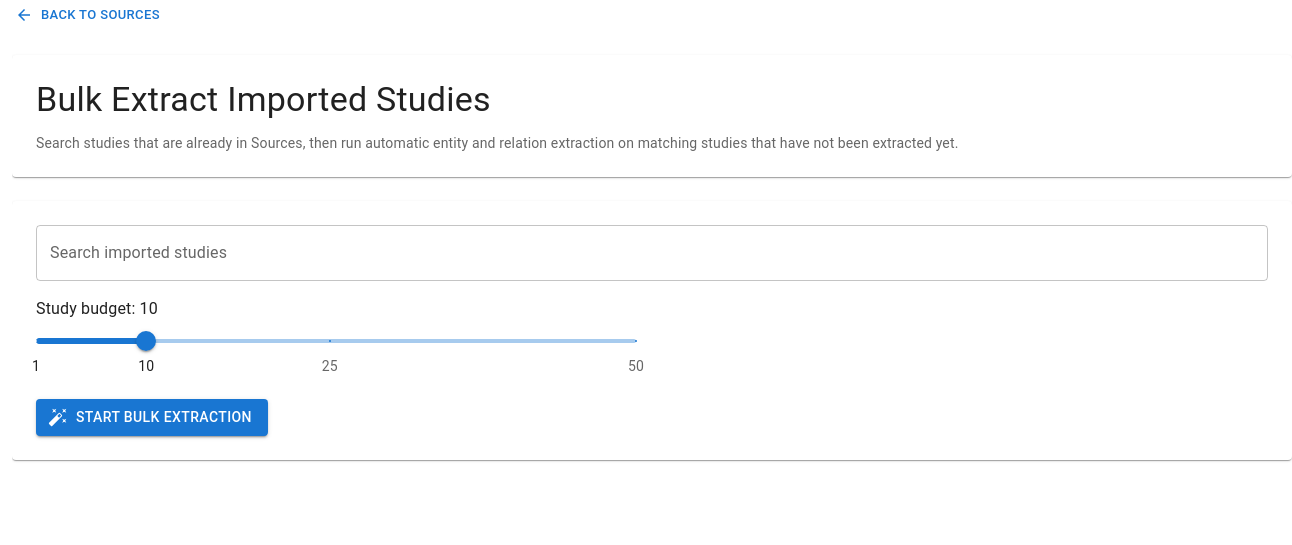
Test case: BulkSourceExtractionView › starts a bulk extraction job for imported studies
Step 1. Type "ketamine" into the field labelled "Search imported studies" → (652, 253), box left=36, top=225, right=1268, bottom=281
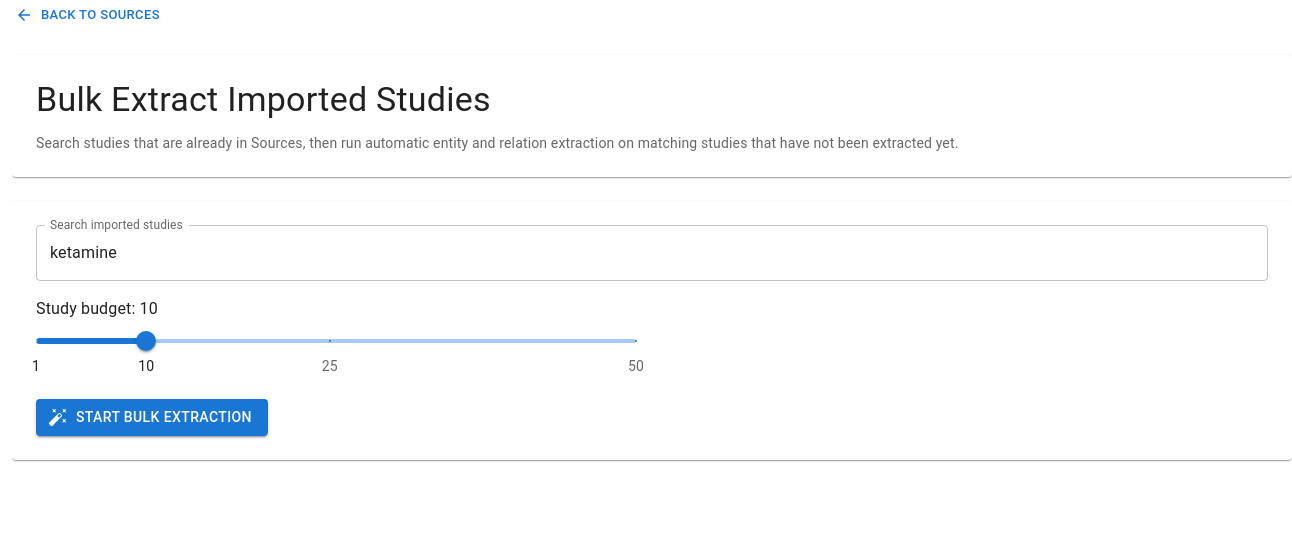
Step 2. Click the button "Start Bulk Extraction" → (152, 417), box left=36, top=399, right=268, bottom=436
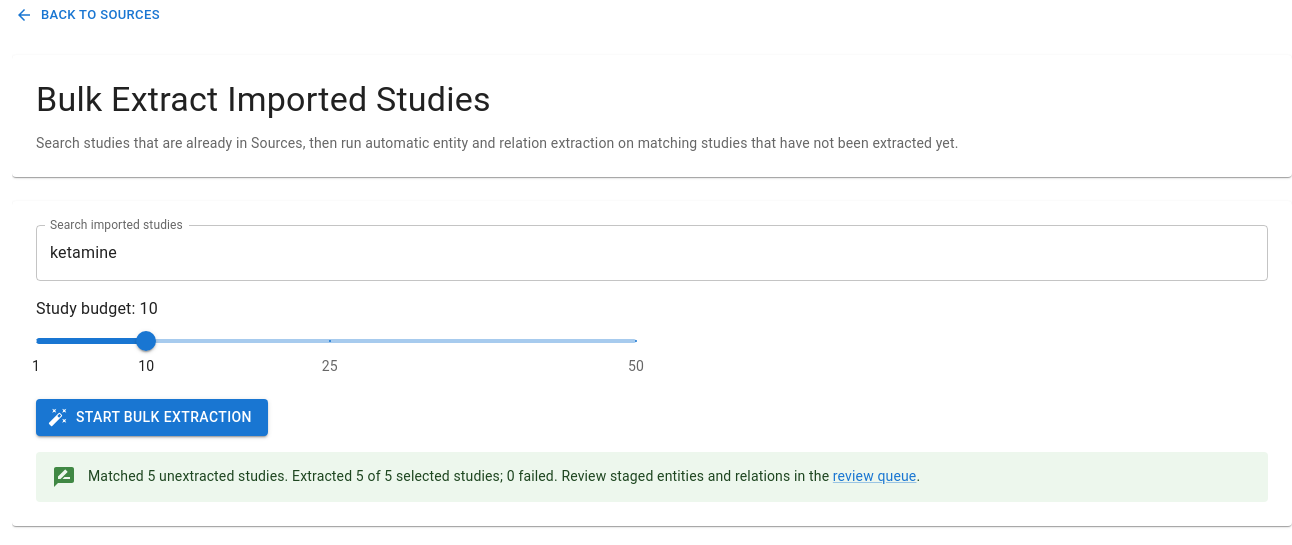
Now the text "Matched 5 unextracted studies" is shown, box left=88, top=468, right=920, bottom=484
